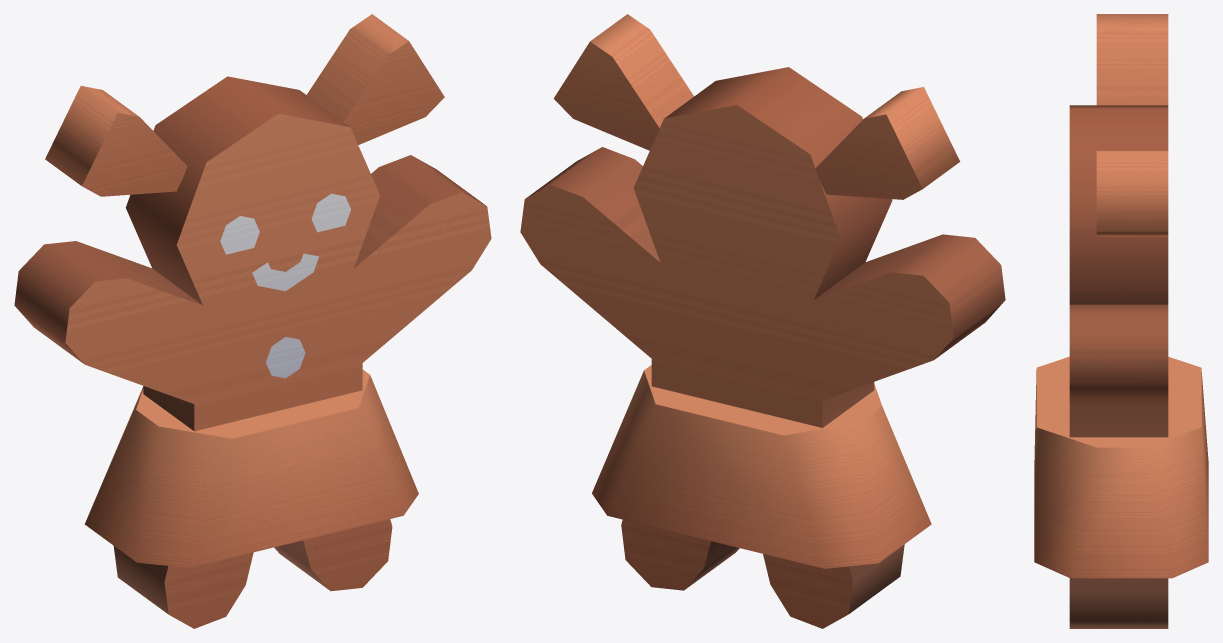
File: gingerbread-woman.glb
3 renders of one model, left to right at view 1: azimuth 30°, elevation 25°; view 2: azimuth 150°, elevation 25°; view 3: azimuth 270°, elevation 25°, orthographic. The views are drawn at different scales.
Visible parts, largest first — view 1: gingerbread-woman, Group; view 2: gingerbread-woman, Group; view 3: gingerbread-woman, Group.
Boxes of the visible parts, left/top/right/bottom form: gingerbread-woman: left=14, top=14, right=491, bottom=628; Group: left=84, top=369, right=418, bottom=567; gingerbread-woman: left=520, top=14, right=1005, bottom=628; Group: left=592, top=365, right=931, bottom=568; gingerbread-woman: left=1069, top=14, right=1168, bottom=628; Group: left=1034, top=356, right=1208, bottom=578.
Bounding box in the file's own units: 0.3393 × 0.397 × 0.1237.
Materials: 1 (1 with a texture image).
